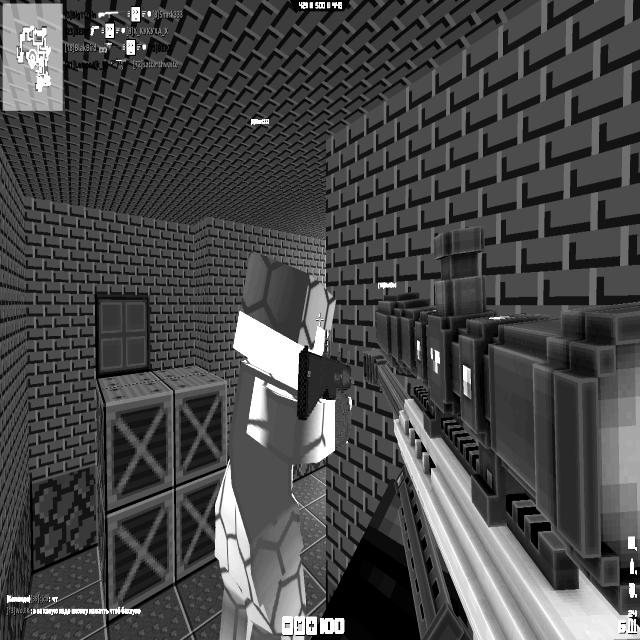Head: (232, 250, 337, 378)
Player: (213, 250, 353, 638)
